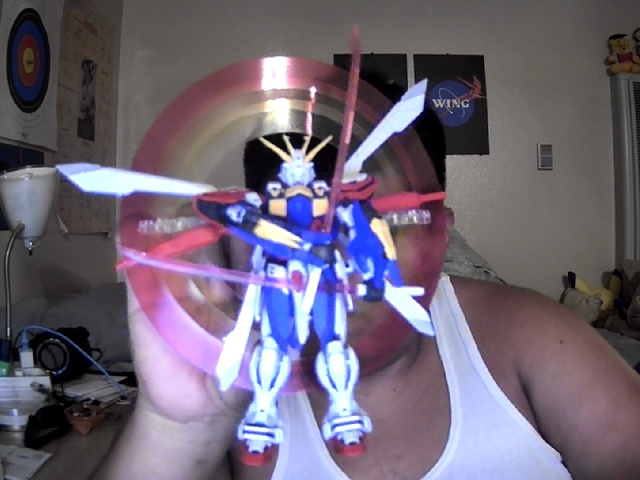God: (55, 53, 448, 467)
